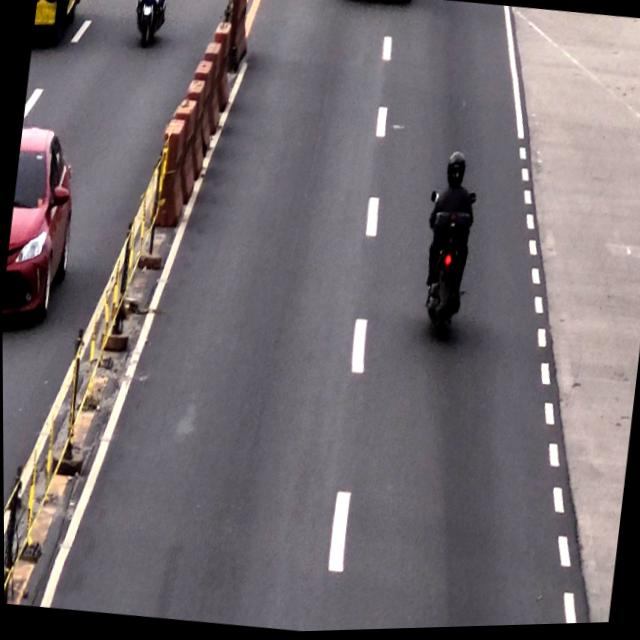Motorcycle: (419, 152, 480, 334)
